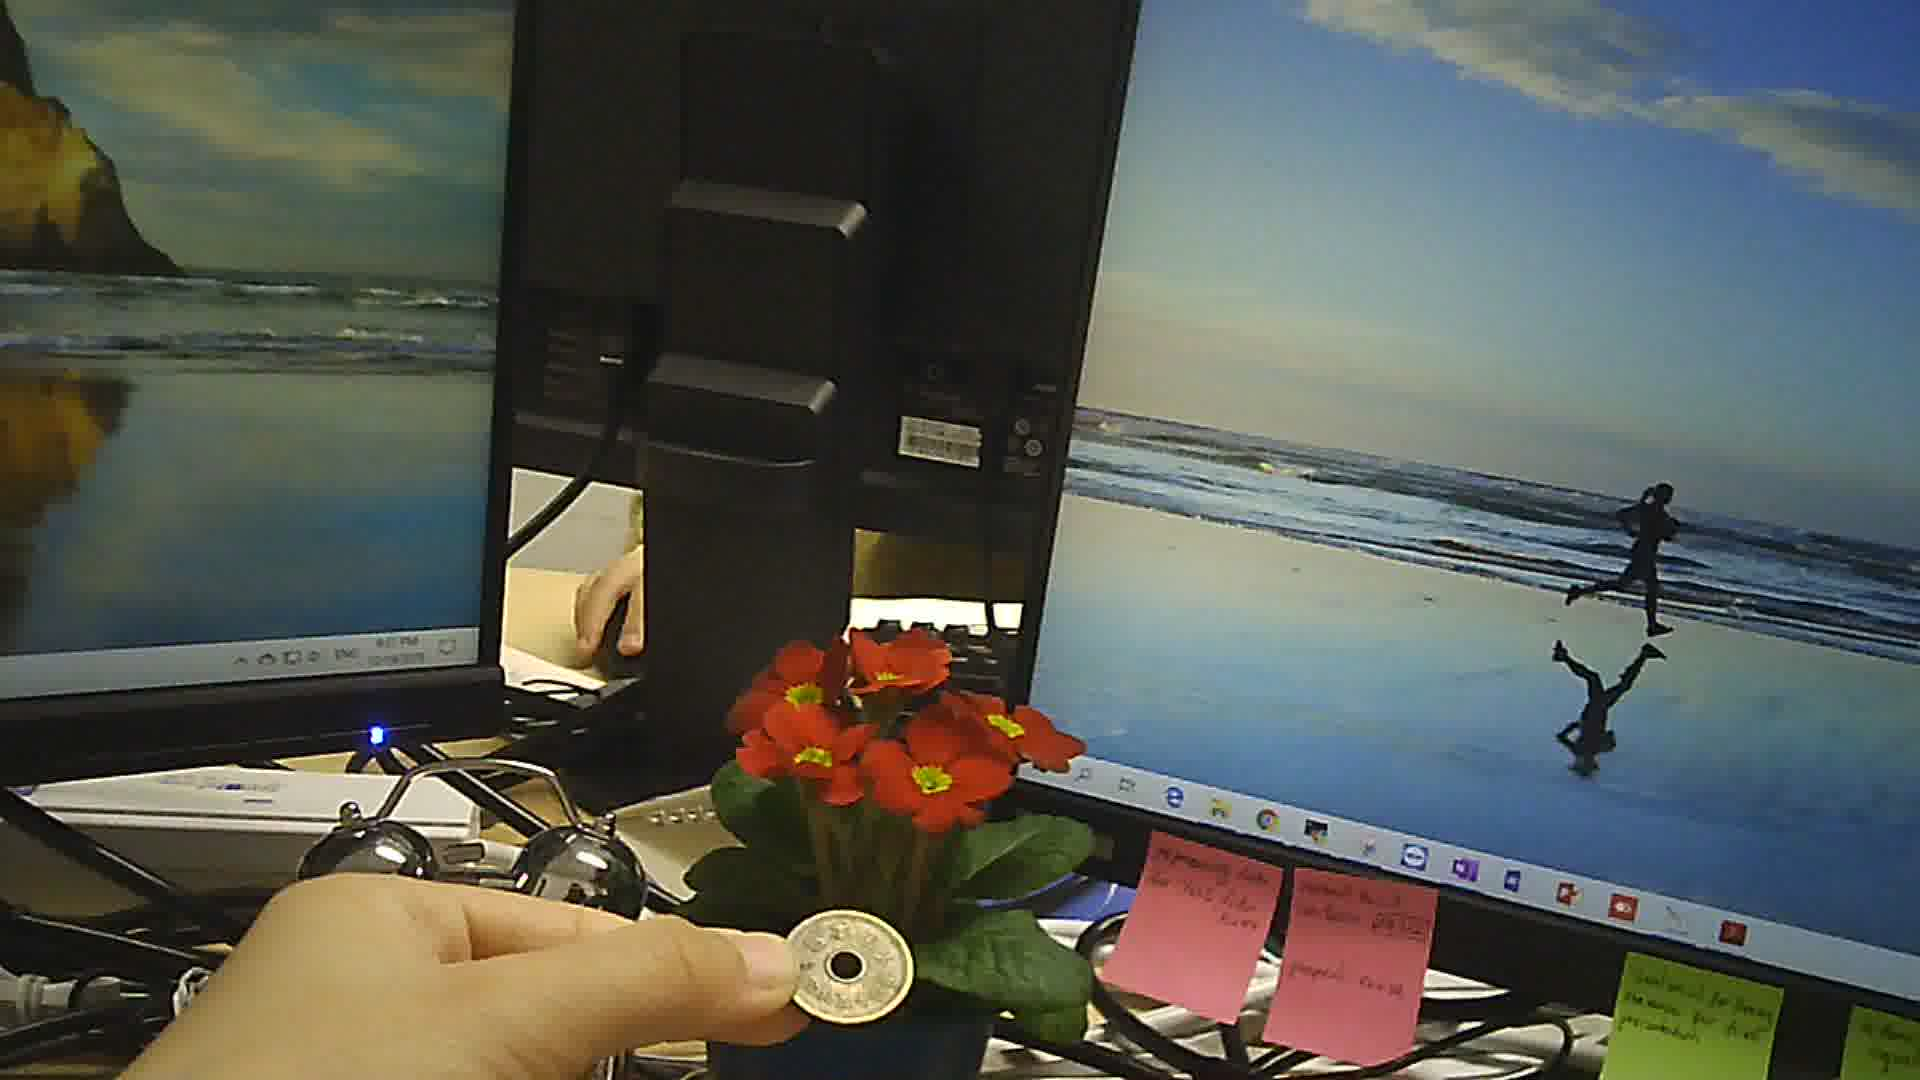5 Yen: (773, 901, 918, 1026)
